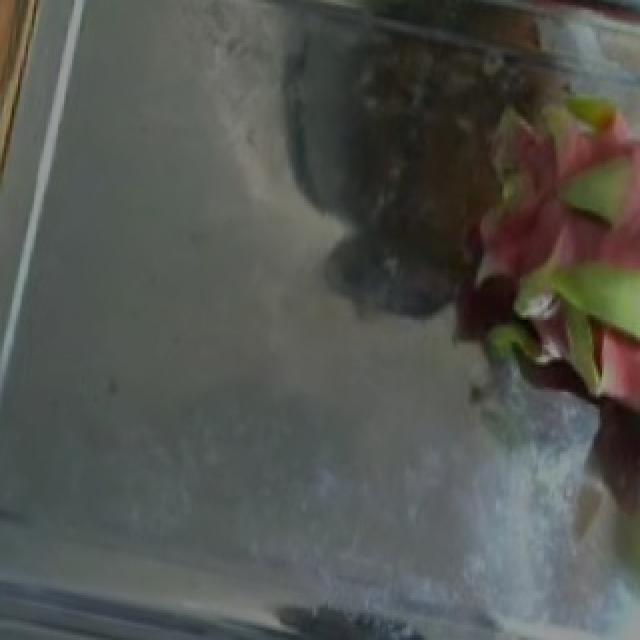fruit: (392, 42, 640, 466)
